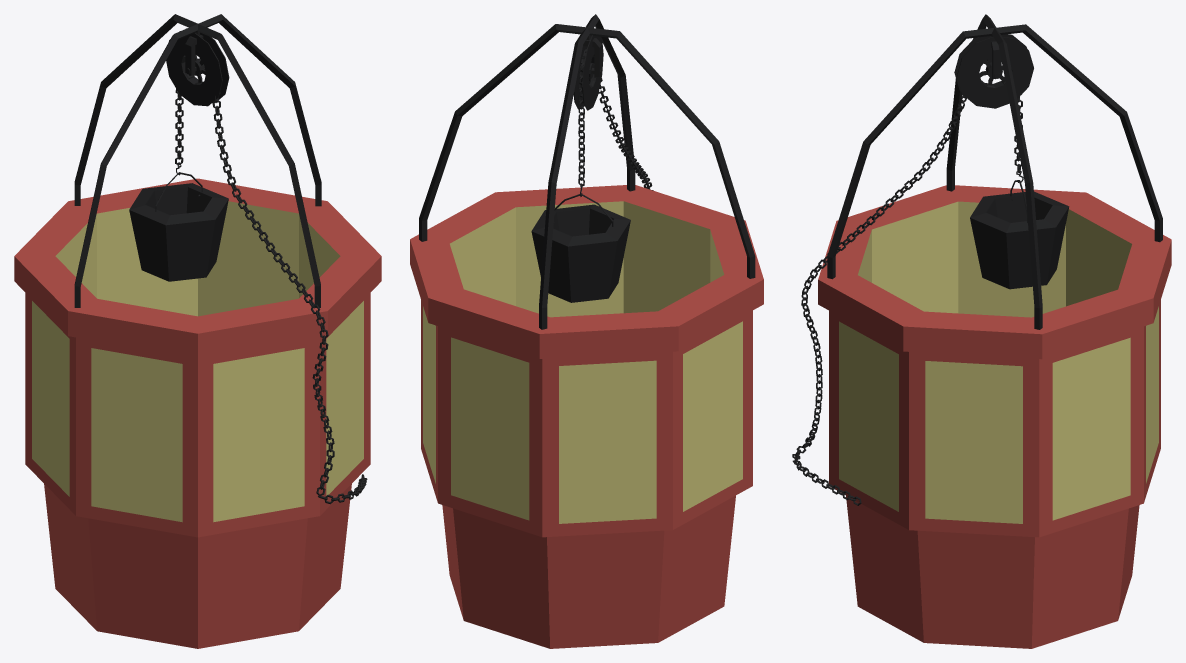
Rendered from water well.fbx.
The picture shows the model from 3 angles, left to right: view 1: azimuth 30°, elevation 25°; view 2: azimuth 150°, elevation 25°; view 3: azimuth 270°, elevation 25°; orthographic projection.
Parts seen in each view (by area): view 1: pozzo, secchio, telaio_4; view 2: pozzo, secchio, telaio_4; view 3: pozzo, secchio, telaio_4.
Boxes of the visible parts, x1,y1,x2,y2 form: pozzo: [14, 178, 381, 648]; secchio: [129, 28, 367, 504]; telaio_4: [74, 14, 321, 307]; pozzo: [410, 185, 763, 648]; secchio: [531, 35, 653, 302]; telaio_4: [419, 14, 755, 329]; pozzo: [818, 185, 1171, 648]; secchio: [792, 34, 1069, 505]; telaio_4: [827, 14, 1162, 329].
Bounding box in the file's own units: 123 × 217 × 133.
